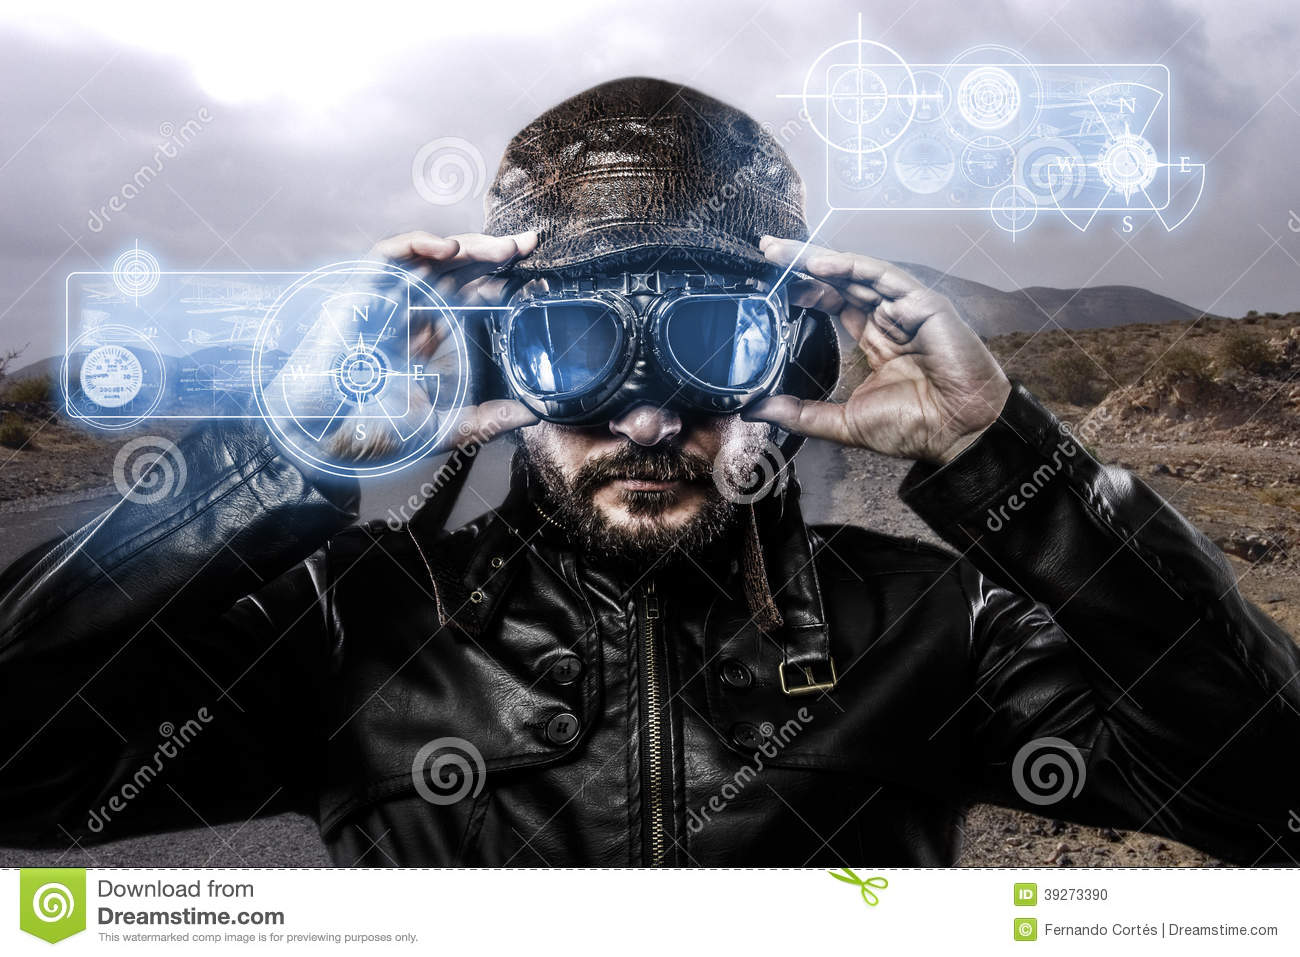helmet: (471, 88, 813, 286)
